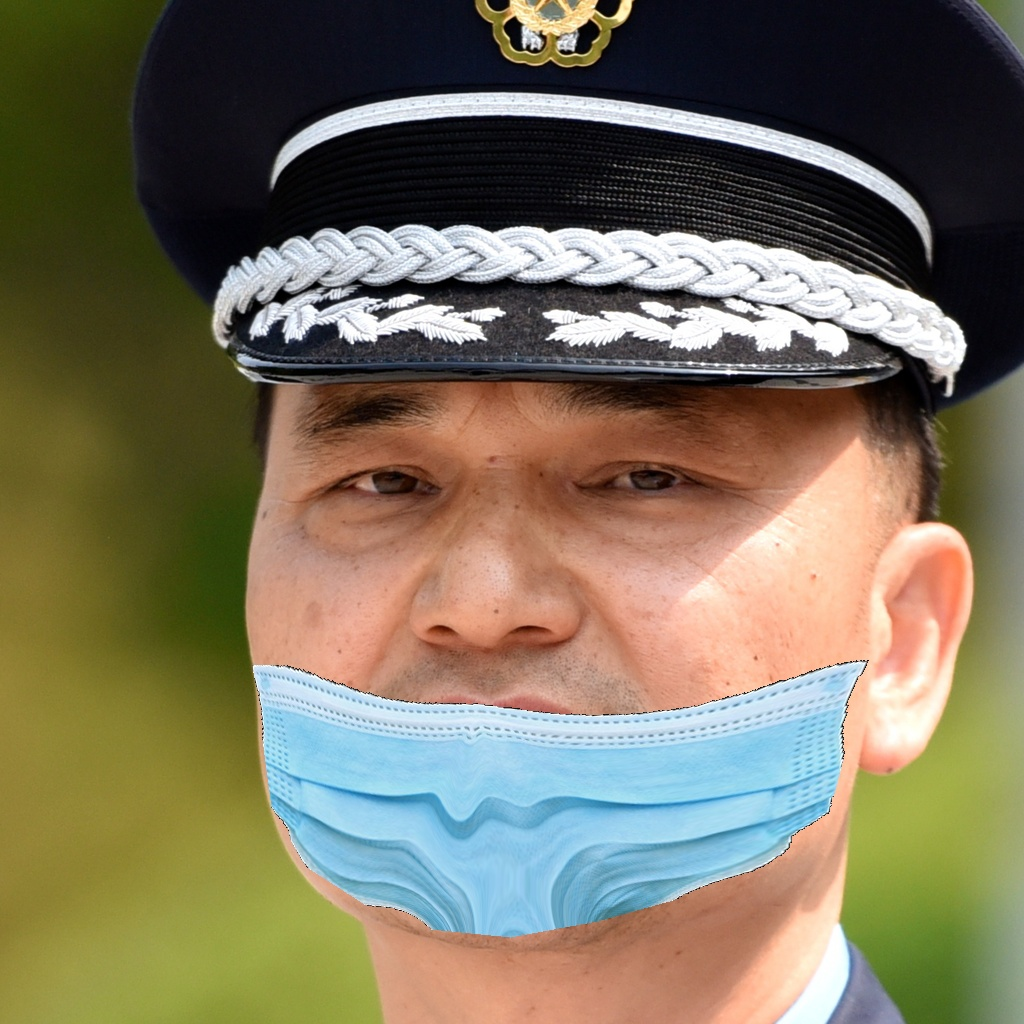mascarilla_mal_puesta: (209, 378, 947, 958)
